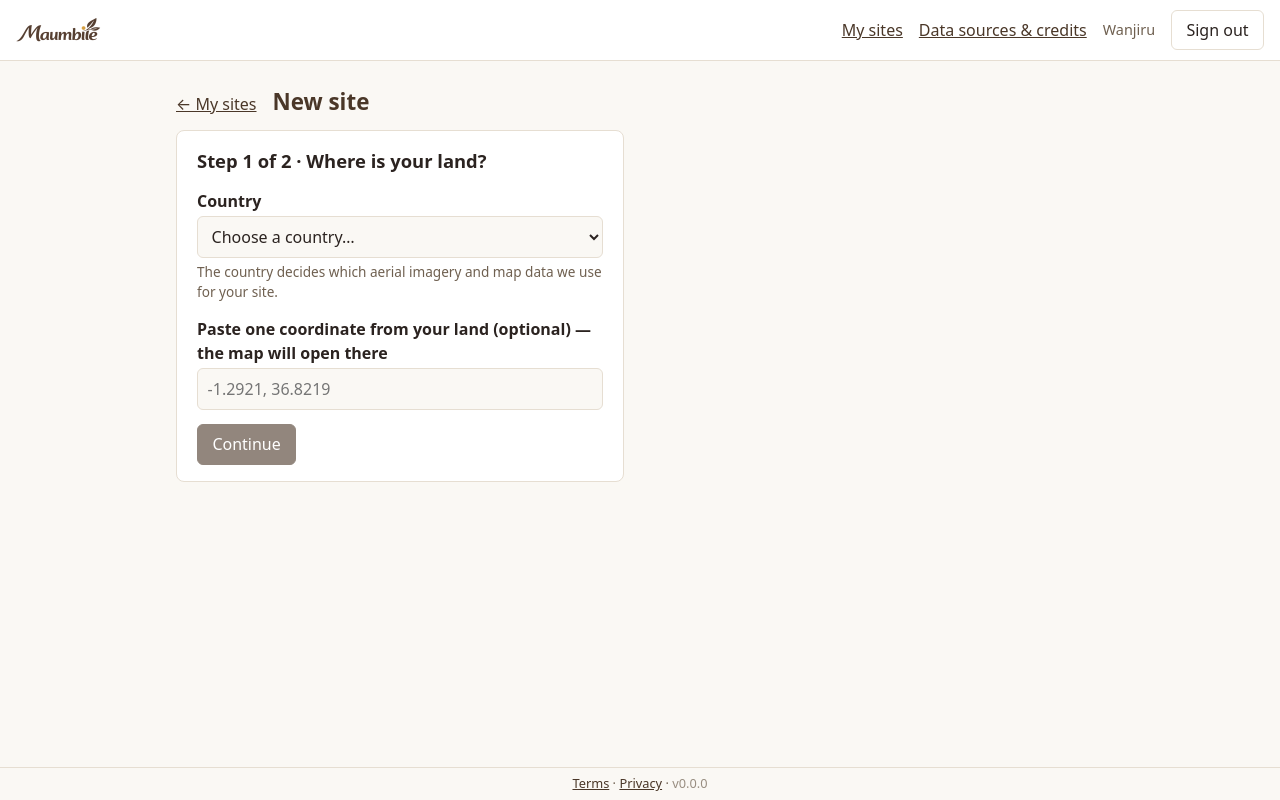
Scenario: site setup flow › does not contradict a chosen country whose box contains the coordinate
Select "Tanzania" in the dropdown labelled "Country" at (400, 237), box [197, 216, 603, 258]
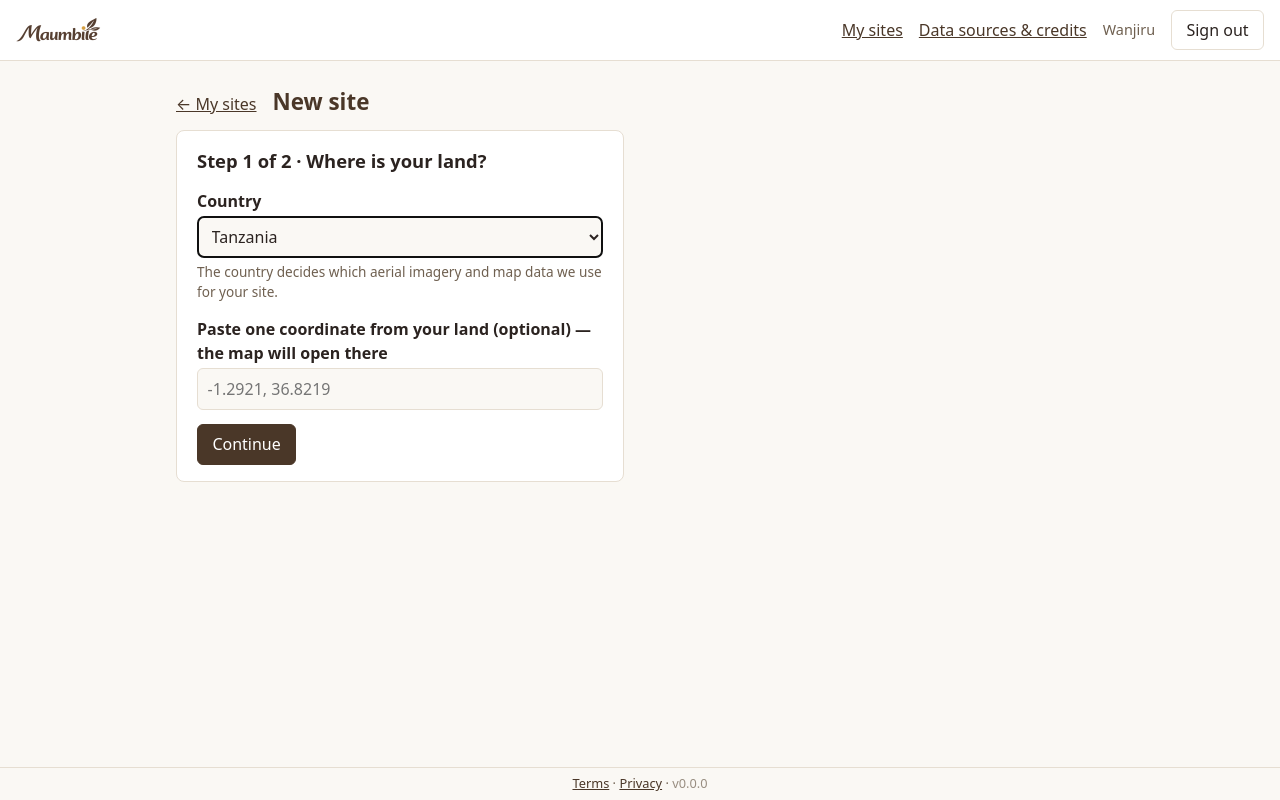
# Near Arusha: inside Tanzania, but also inside Kenya's rough box.
Type "-3.3, 36.7" into the field labelled "Paste one coordinate" at (400, 389), box [197, 368, 603, 410]
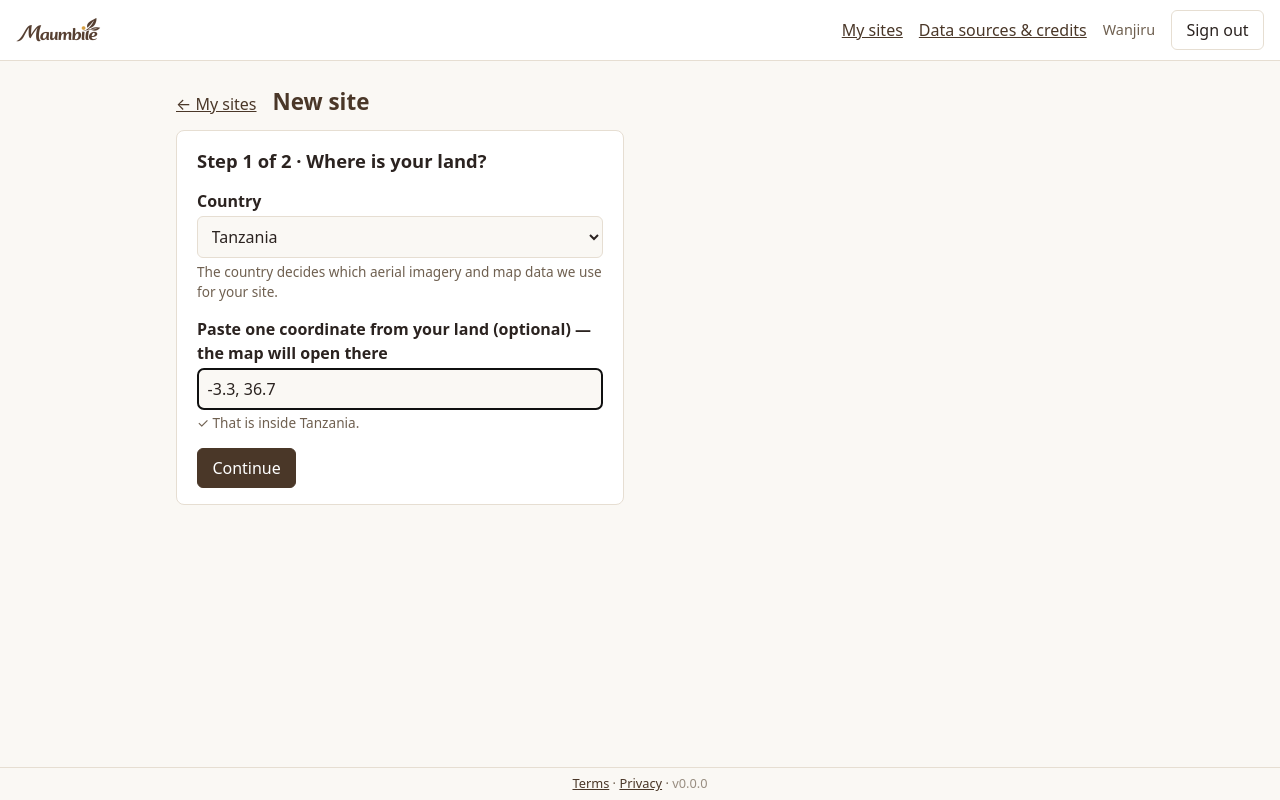
Now the text "✓ That is inside Tanzania." is shown, box [197, 413, 359, 432]
